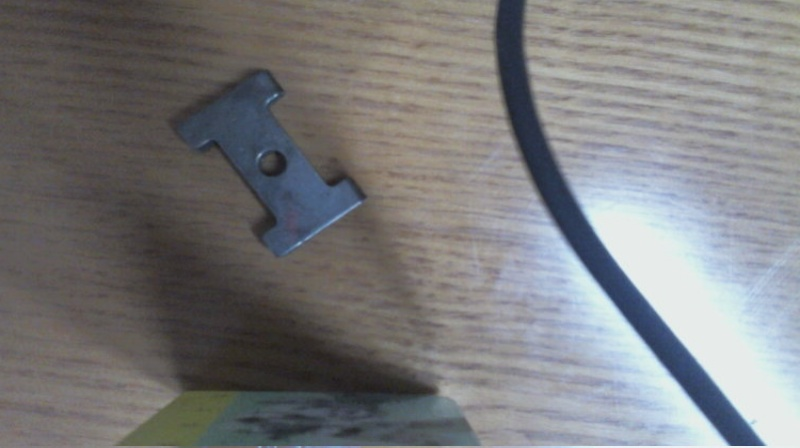O002: (168, 68, 372, 258)
